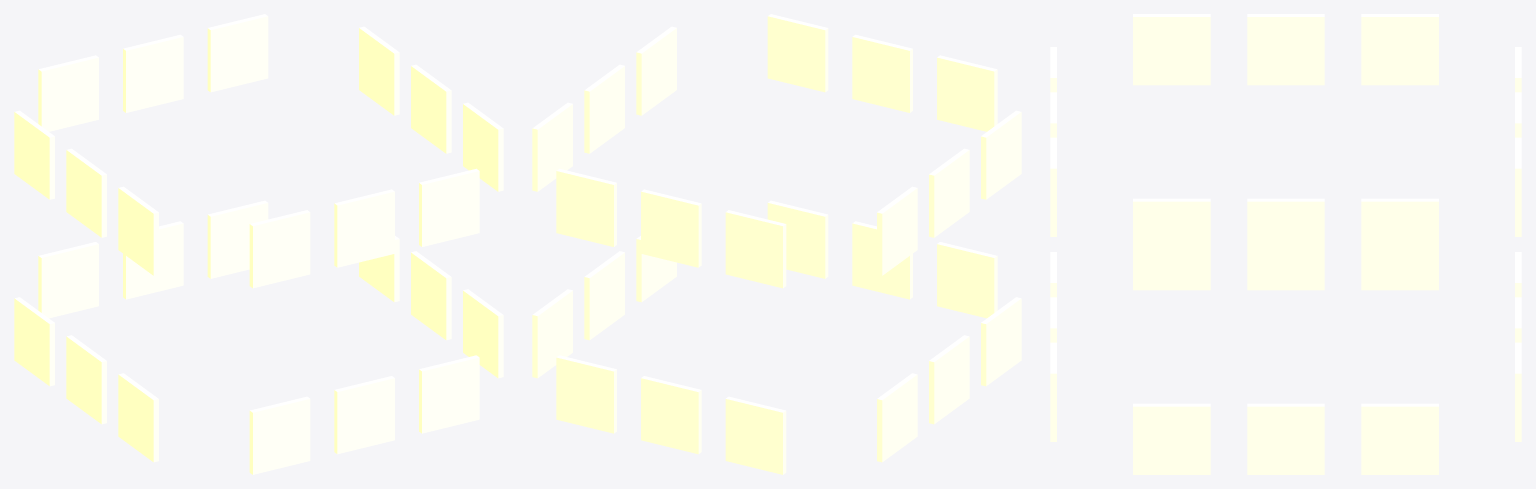
File: building-a.glb
3 renders of one model, left to right at view 1: azimuth 30°, elevation 25°; view 2: azimuth 150°, elevation 25°; view 3: azimuth 270°, elevation 25°, orthographic. The views are drawn at different scales.
Parts seen in each view (by area): view 1: WindowLight_back_1_2, WindowLight_front_0_0, WindowLight_front_1_0, WindowLight_front_0_2, WindowLight_back_1_1, WindowLight_front_0_1, WindowLight_front_1_2, WindowLight_front_1_1, WindowLight_back_1_0, WindowLight_back_0_0, WindowLight_back_0_2, WindowLight_left_0_2 (+12 smaller); view 2: WindowLight_back_0_0, WindowLight_front_1_2, WindowLight_back_1_0, WindowLight_back_0_2, WindowLight_back_0_1, WindowLight_back_1_2, WindowLight_front_1_1, WindowLight_back_1_1, WindowLight_front_1_0, WindowLight_front_0_0, WindowLight_front_0_2, WindowLight_left_0_0 (+12 smaller); view 3: WindowLight_left_1_0, WindowLight_left_1_1, WindowLight_left_1_2, WindowLight_right_0_0, WindowLight_right_0_1, WindowLight_right_0_2, WindowLight_right_1_0, WindowLight_right_1_1, WindowLight_right_1_2, WindowLight_left_0_0, WindowLight_left_0_1, WindowLight_left_0_2 (+4 smaller).
Part boxes in pixels (bbox=[...]): WindowLight_back_1_2: bbox=[207, 14, 268, 92]; WindowLight_front_0_0: bbox=[249, 396, 310, 474]; WindowLight_front_1_0: bbox=[249, 210, 310, 288]; WindowLight_front_0_2: bbox=[419, 355, 479, 433]; WindowLight_back_1_1: bbox=[123, 34, 183, 112]; WindowLight_front_0_1: bbox=[334, 376, 394, 454]; WindowLight_front_1_2: bbox=[419, 168, 479, 246]; WindowLight_front_1_1: bbox=[334, 189, 394, 267]; WindowLight_back_1_0: bbox=[38, 55, 98, 131]; WindowLight_back_0_0: bbox=[38, 242, 98, 318]; WindowLight_back_0_2: bbox=[207, 200, 268, 278]; WindowLight_left_0_2: bbox=[14, 297, 54, 386]; WindowLight_back_0_0: bbox=[725, 396, 786, 474]; WindowLight_front_1_2: bbox=[767, 14, 828, 92]; WindowLight_back_1_0: bbox=[725, 210, 786, 288]; WindowLight_back_0_2: bbox=[556, 355, 616, 433]; WindowLight_back_0_1: bbox=[641, 376, 701, 454]; WindowLight_back_1_2: bbox=[556, 168, 616, 246]; WindowLight_front_1_1: bbox=[852, 34, 912, 112]; WindowLight_back_1_1: bbox=[641, 189, 701, 267]; WindowLight_front_1_0: bbox=[937, 55, 997, 131]; WindowLight_front_0_0: bbox=[937, 242, 997, 318]; WindowLight_front_0_2: bbox=[767, 200, 828, 278]; WindowLight_left_0_0: bbox=[981, 297, 1021, 386]; WindowLight_left_1_0: bbox=[1133, 14, 1210, 85]; WindowLight_left_1_1: bbox=[1247, 14, 1324, 85]; WindowLight_left_1_2: bbox=[1361, 14, 1438, 85]; WindowLight_right_0_0: bbox=[1133, 403, 1210, 474]; WindowLight_right_0_1: bbox=[1247, 403, 1324, 474]; WindowLight_right_0_2: bbox=[1361, 403, 1438, 474]; WindowLight_right_1_0: bbox=[1133, 198, 1210, 269]; WindowLight_right_1_1: bbox=[1247, 198, 1324, 269]; WindowLight_right_1_2: bbox=[1361, 198, 1438, 269]; WindowLight_left_0_0: bbox=[1133, 270, 1210, 290]; WindowLight_left_0_1: bbox=[1247, 270, 1324, 290]; WindowLight_left_0_2: bbox=[1361, 270, 1438, 290].
Size of the model in its own units: 0.9136 by 0.6206 by 0.97.
